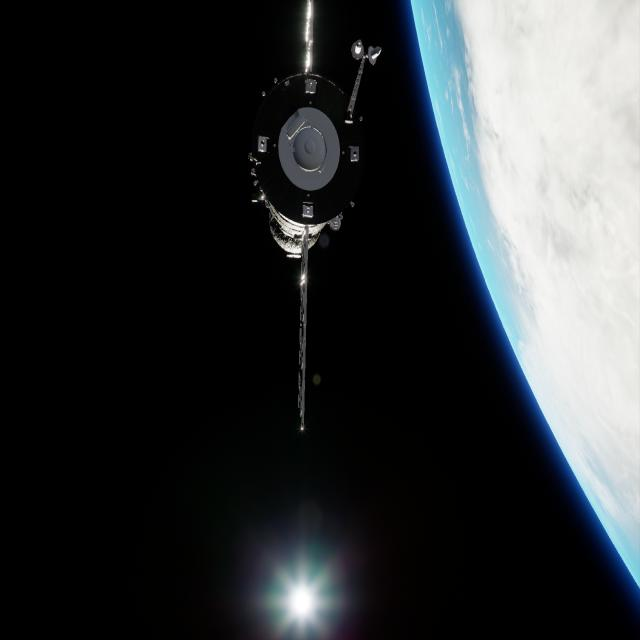Satellites revolving around earth: (246, 66, 368, 256)
